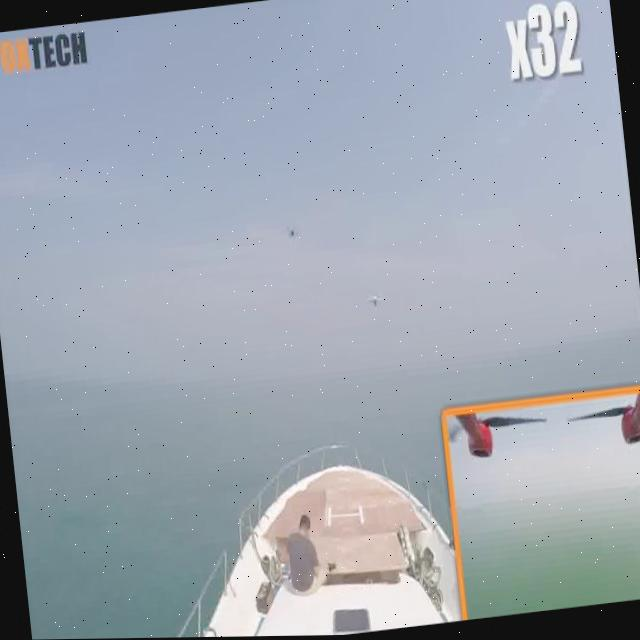drone: (362, 273, 394, 320), (275, 214, 303, 247)
